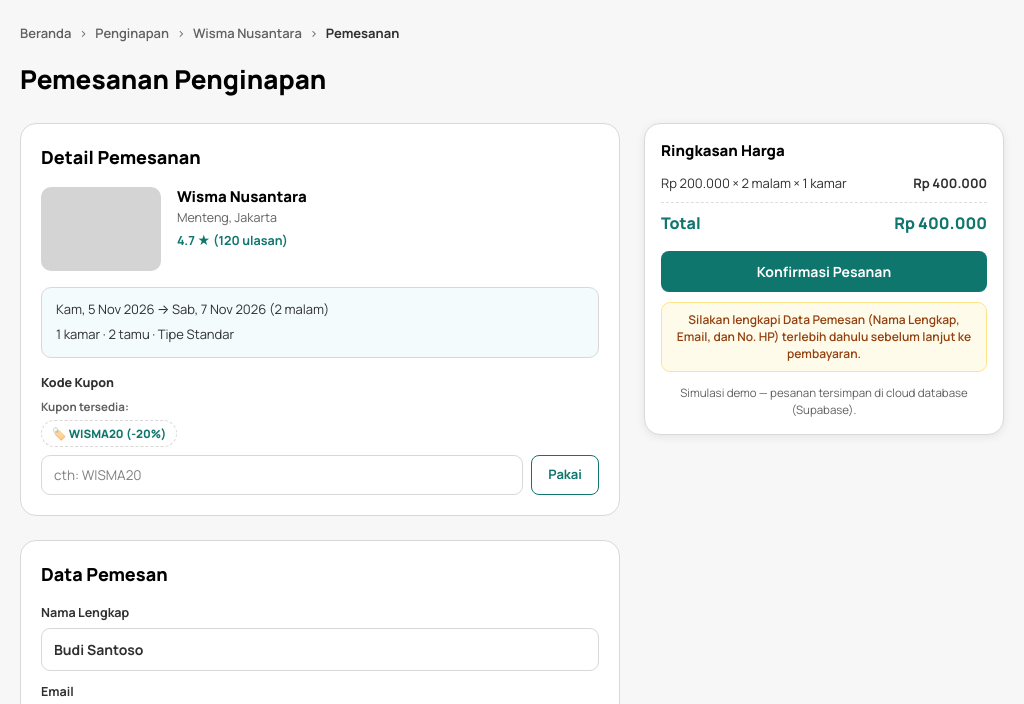
Test case: BookingPage (panduan Data Pemesan) › menampilkan chip kupon cepat dan dapat dipilih langsung
Click the button "🏷️ WISMA20 (-20%)": (109,433) [41,420,177,447]
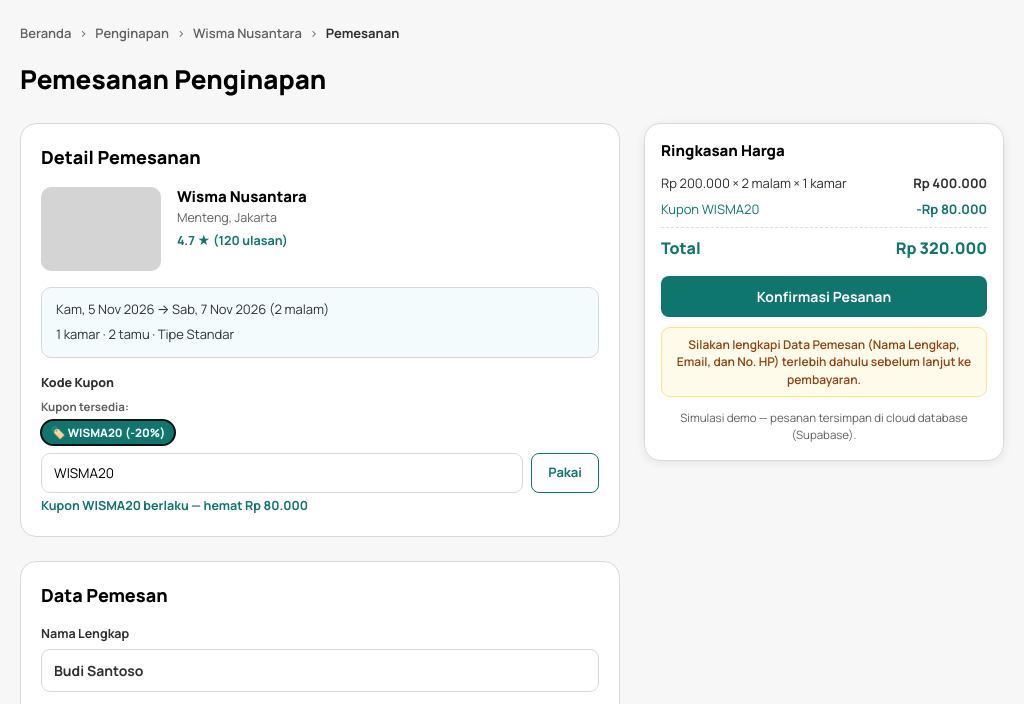
Expected: the text "Kupon WISMA20 berlaku — hemat Rp 80.000" is shown, [41,497,308,514]
